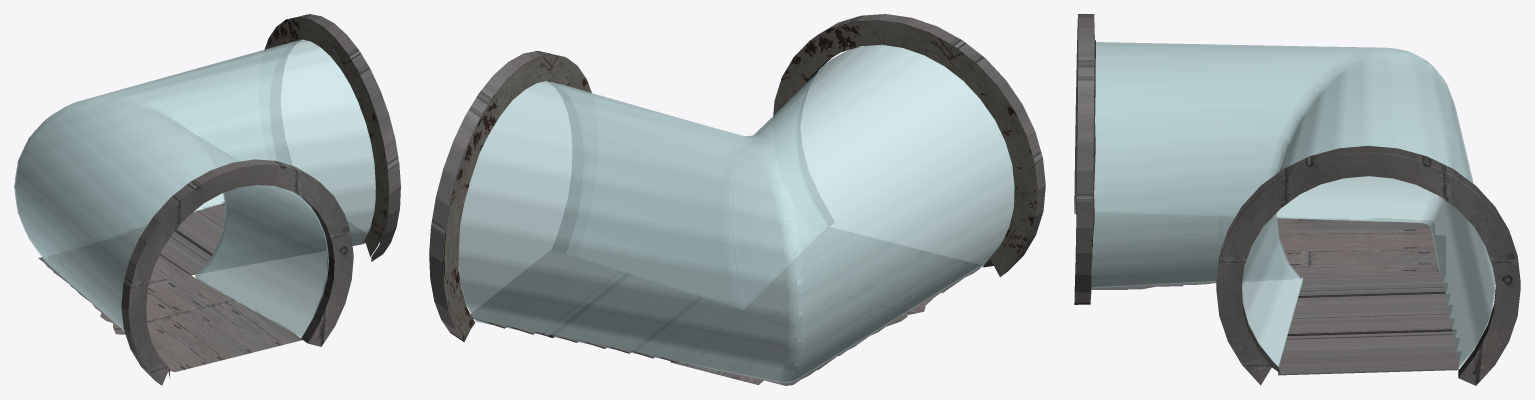
File: Cano90Graus.fbx
3 renders of one model, left to right at view 1: azimuth 30°, elevation 25°; view 2: azimuth 150°, elevation 25°; view 3: azimuth 270°, elevation 25°, orthographic. The views are drawn at different scales.
Parts seen in each view (by area): view 1: Cube, Cylinder.001, Cylinder.005, Cylinder.003, Cube.001; view 2: Cube, Cylinder.001, Cube.001, Cylinder.005, Cylinder.003; view 3: Cube, Cylinder.001, Cylinder.003, Cube.001, Cylinder.005.
Part boxes in pixels (<box>): Cube: <box>14,40,375,337</box>; Cylinder.001: <box>38,234,302,371</box>; Cylinder.005: <box>121,159,353,385</box>; Cylinder.003: <box>264,14,400,261</box>; Cube.001: <box>128,195,366,275</box>; Cube: <box>458,44,1014,382</box>; Cylinder.001: <box>670,227,983,385</box>; Cube.001: <box>470,250,741,363</box>; Cylinder.005: <box>773,14,1045,276</box>; Cylinder.003: <box>429,50,591,341</box>; Cube: <box>1091,42,1495,367</box>; Cylinder.001: <box>1091,213,1445,289</box>; Cylinder.003: <box>1216,145,1520,385</box>; Cube.001: <box>1278,272,1460,375</box>; Cylinder.005: <box>1074,14,1095,304</box>.
Size of the model in its own units: 348 by 201 by 343.
4 materials, 3 textured.
